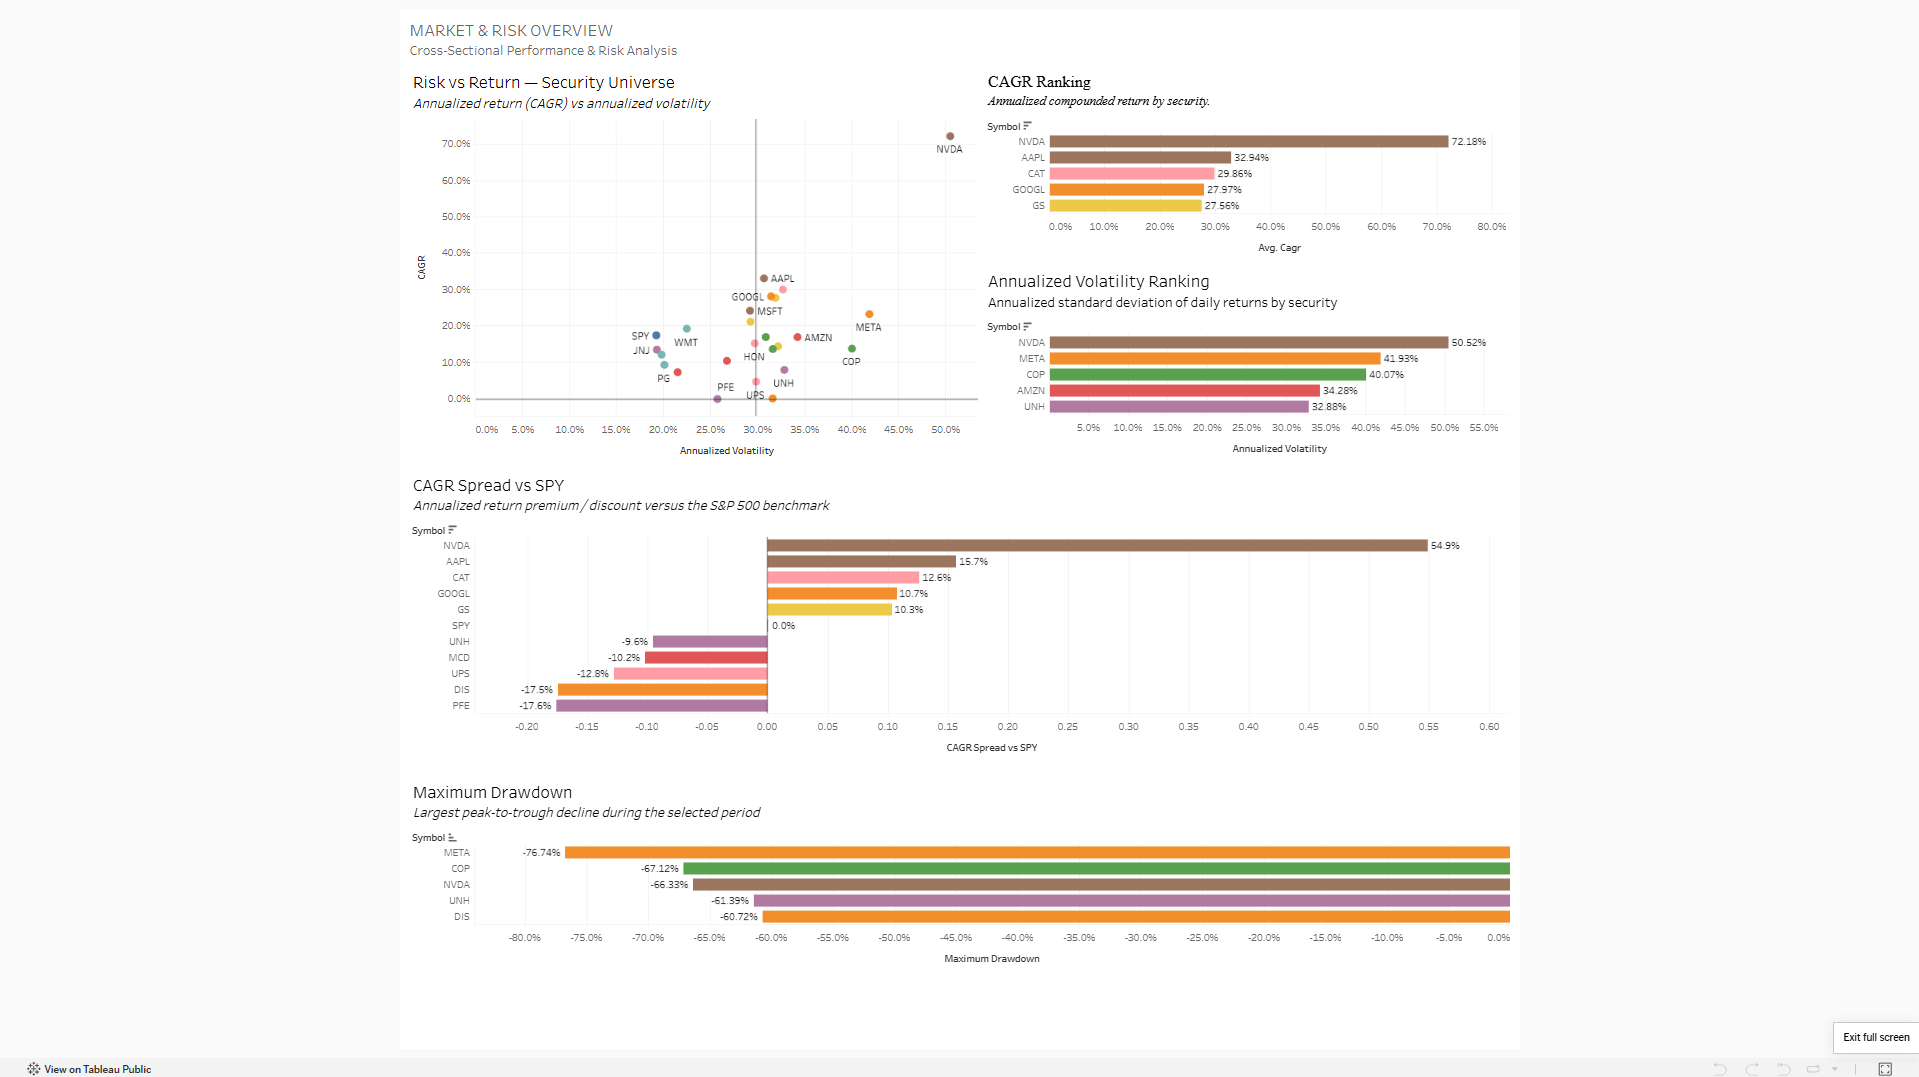

What the dashboard file says about the page in this screenshot:
{"tool":"tableau","page":{"name":"02 - Market & Risk Overview","canvas":[1400,1300],"ordinal":1},"visuals":[{"type":"text","box":[8,8,1384,59]},{"type":"worksheet","title":"11 - Market Risk vs Return","mark":"Circle","rows":["CAGR"],"cols":["AnnualizedVolatility"],"box":[8,67,719,503]},{"type":"worksheet","title":"12 - CAGR Ranking","mark":"Bar","rows":["Symbol"],"cols":["CAGR"],"box":[727,67,665,245]},{"type":"worksheet","title":"14 - Volatility Ranking","mark":"Bar","rows":["Symbol"],"cols":["AnnualizedVolatility"],"box":[727,312,665,249]},{"type":"worksheet","title":"15 - Relative Performance vs SPY Ranking","mark":"Bar","rows":["Symbol"],"cols":["Calculation_0691640326107159"],"box":[8,570,1384,384]},{"type":"worksheet","title":"13 - Maximum Drawdown Ranking","mark":"Bar","rows":["Symbol"],"cols":["MaximumDrawdown"],"box":[8,954,1384,306]}]}

Visuals, with their boxes on the page's 1400x1300 design canvas (x1, y1, x2, y2). These are canvas units, not pixel positions in the 1919x1077 screenshot, which may show the page scaled, cropped or inside an application window:
text: {"left": 8, "top": 8, "right": 1392, "bottom": 67}
"11 - Market Risk vs Return" worksheet (Circle marks): {"left": 8, "top": 67, "right": 727, "bottom": 570}
"12 - CAGR Ranking" worksheet (Bar marks): {"left": 727, "top": 67, "right": 1392, "bottom": 312}
"14 - Volatility Ranking" worksheet (Bar marks): {"left": 727, "top": 312, "right": 1392, "bottom": 561}
"15 - Relative Performance vs SPY Ranking" worksheet (Bar marks): {"left": 8, "top": 570, "right": 1392, "bottom": 954}
"13 - Maximum Drawdown Ranking" worksheet (Bar marks): {"left": 8, "top": 954, "right": 1392, "bottom": 1260}
